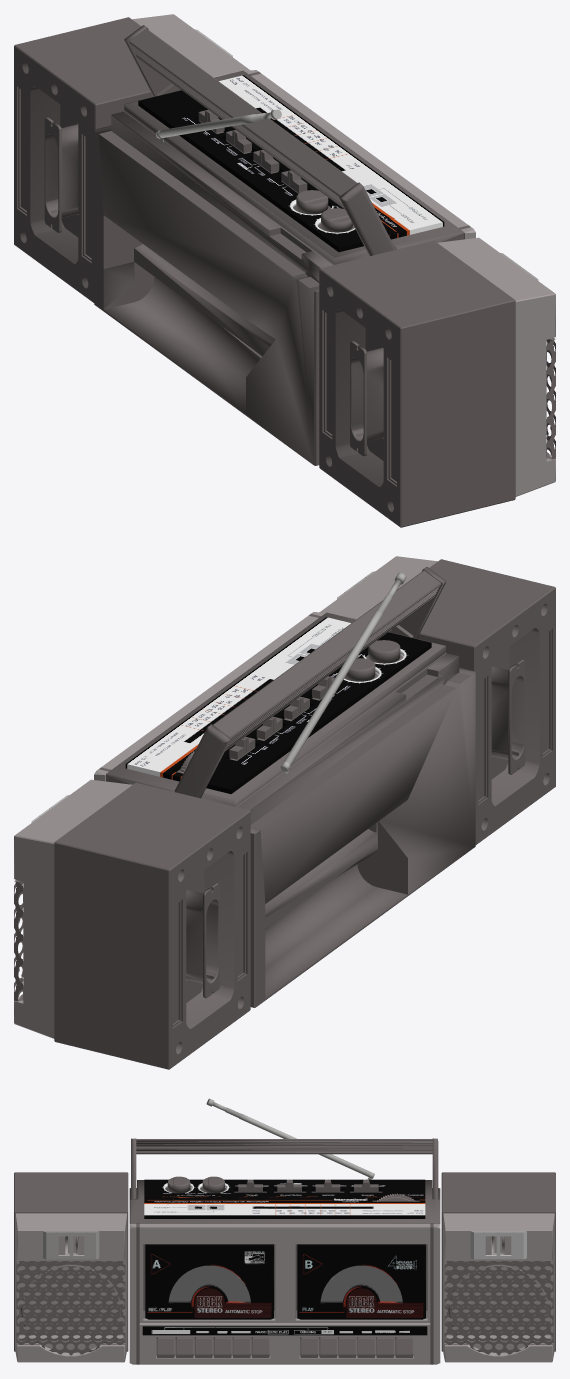
File: radiocassette_reduced.dae
3 views of the same model, one above another, from view 1: azimuth 30°, elevation 25°; view 2: azimuth 150°, elevation 25°; view 3: azimuth 270°, elevation 25° (orthographic). The views are drawn at different scales.
Parts seen in each view (by area): view 1: F8011BA1, F8011BS1, F8011BS2, F8011Btp, f8011man, F8011GR1, F8011GR2, F8011GR3, f8011ant, f8011am2, f8011CN5, f8011CN6; view 2: F8011BA1, F8011BS2, F8011BS1, F8011Btp, f8011man, F8011GR2, F8011GR1, F8011GR3, f8011ant, f8011am1, f8011CN6; view 3: F8011GR3, F8011Btp, F8011GR2, F8011GR1, f8011am2, f8011am1, F8011A, F8011B, F8011BA1, f8011man, F8011BS2, F8011BS1 (+21 smaller).
Part boxes in pixels (bbox=[...]): F8011BA1: bbox=[94, 70, 463, 465]; F8011BS1: bbox=[319, 240, 515, 527]; F8011BS2: bbox=[14, 17, 152, 302]; F8011Btp: bbox=[138, 75, 444, 252]; f8011man: bbox=[124, 25, 395, 256]; F8011GR1: bbox=[437, 237, 555, 496]; F8011GR2: bbox=[132, 14, 249, 77]; F8011GR3: bbox=[244, 70, 475, 239]; f8011ant: bbox=[156, 109, 281, 143]; f8011am2: bbox=[546, 338, 555, 459]; f8011CN5: bbox=[296, 190, 328, 214]; f8011CN6: bbox=[321, 208, 352, 232]; F8011BA1: bbox=[106, 612, 475, 1007]; F8011BS2: bbox=[54, 782, 250, 1069]; F8011BS1: bbox=[417, 559, 555, 844]; F8011Btp: bbox=[125, 617, 431, 793]; f8011man: bbox=[174, 567, 446, 798]; F8011GR2: bbox=[14, 779, 132, 1038]; F8011GR1: bbox=[320, 556, 437, 619]; F8011GR3: bbox=[94, 612, 325, 781]; f8011ant: bbox=[280, 572, 406, 773]; f8011am1: bbox=[14, 880, 23, 1001]; f8011CN6: bbox=[368, 640, 400, 663]; F8011GR3: bbox=[129, 1223, 440, 1364]; F8011Btp: bbox=[144, 1179, 425, 1218]; F8011GR2: bbox=[442, 1213, 554, 1362]; F8011GR1: bbox=[15, 1213, 127, 1362]; f8011am2: bbox=[16, 1260, 125, 1355]; f8011am1: bbox=[444, 1260, 553, 1355]; F8011A: bbox=[145, 1244, 273, 1319]; F8011B: bbox=[297, 1244, 425, 1319]; F8011BA1: bbox=[129, 1180, 440, 1318]; f8011man: bbox=[131, 1138, 438, 1199]; F8011BS2: bbox=[441, 1172, 555, 1351]; F8011BS1: bbox=[14, 1172, 128, 1351].
Size of the model in its own units: 37.62 by 147 by 65.69.
Materials: 11 (4 with a texture image).
